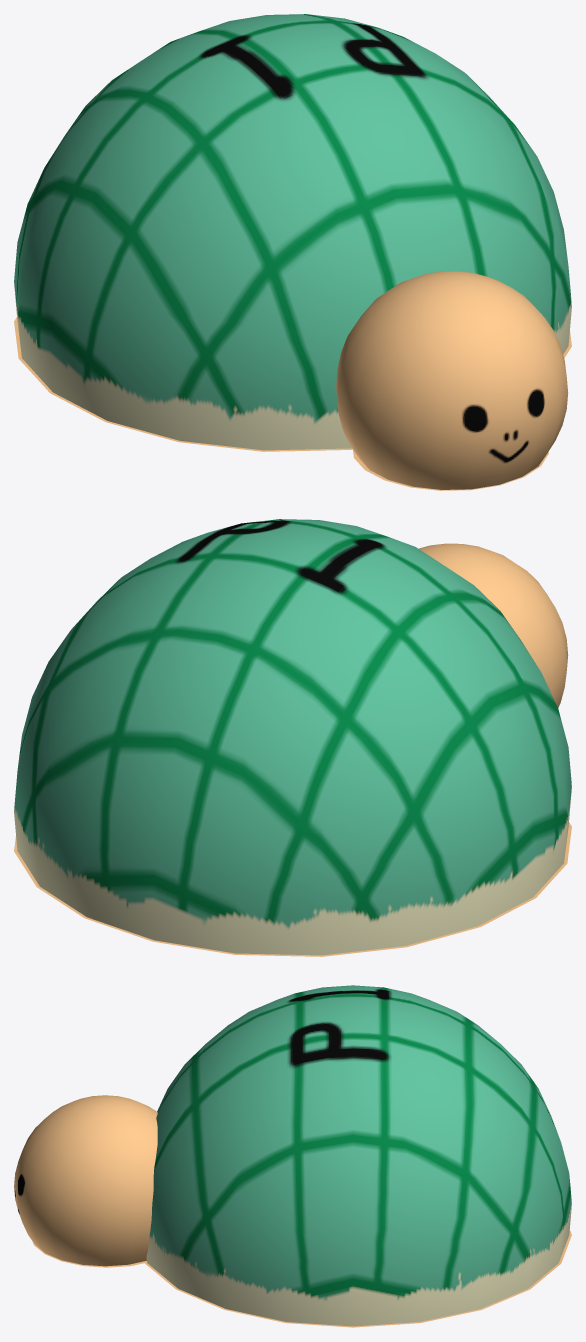
The model's file is player1model.fbx.
3 renders of one model, top to bottom at view 1: azimuth 30°, elevation 25°; view 2: azimuth 150°, elevation 25°; view 3: azimuth 270°, elevation 25°, orthographic. The views are drawn at different scales.
Visible parts, largest first — view 1: pSphere1, pSphere2, pCylinder1; view 2: pSphere1, pSphere2, pCylinder1; view 3: pSphere1, pSphere2, pCylinder1.
Part boxes in pixels (<box>): pSphere1: <box>14,14,571,450</box>; pSphere2: <box>336,271,568,489</box>; pCylinder1: <box>14,317,571,451</box>; pSphere1: <box>14,519,571,955</box>; pSphere2: <box>419,543,568,707</box>; pCylinder1: <box>14,822,571,956</box>; pSphere1: <box>146,985,571,1326</box>; pSphere2: <box>14,1095,157,1266</box>; pCylinder1: <box>145,1229,571,1327</box>.
Size of the model in its own units: 2 by 1.16 by 2.55.
